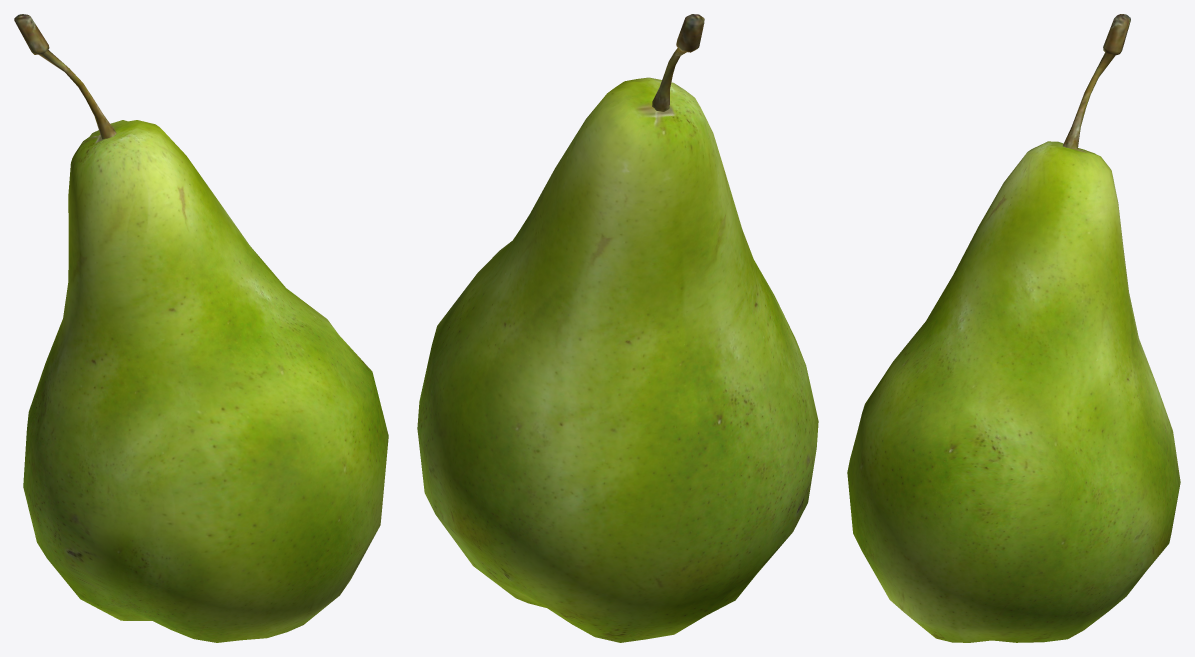
File: pear.glb
3 renders of one model, left to right at view 1: azimuth 30°, elevation 25°; view 2: azimuth 150°, elevation 25°; view 3: azimuth 270°, elevation 25°, orthographic. The views are drawn at different scales.
Parts seen in each view (by area): view 1: pear+; view 2: pear+; view 3: pear+.
Boxes of the visible parts, x1=… form: pear+: x1=14, y1=14, x2=388, y2=642; pear+: x1=417, y1=14, x2=818, y2=642; pear+: x1=847, y1=14, x2=1180, y2=642.
Bounding box in the file's own units: 0.0656 × 0.119 × 0.0654.
1 material, 1 textured.
